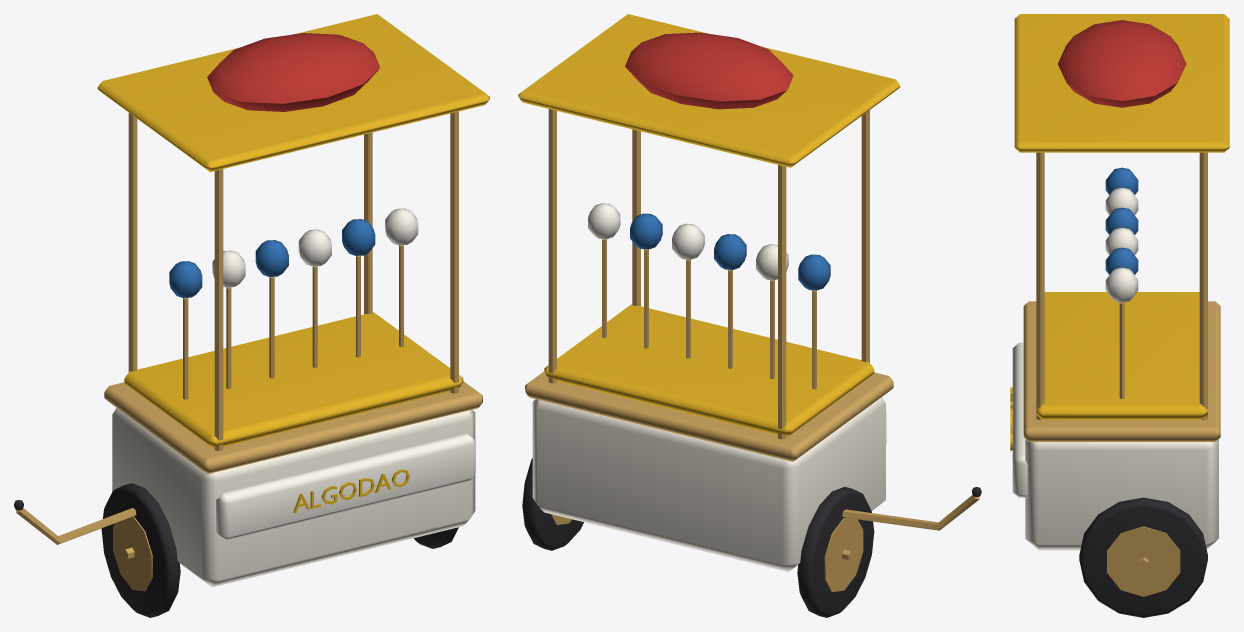
The model's file is cotton_candy_cart.glb.
3 renders of one model, left to right at view 1: azimuth 30°, elevation 25°; view 2: azimuth 150°, elevation 25°; view 3: azimuth 270°, elevation 25°, orthographic. The views are drawn at different scales.
Visible parts, largest first — view 1: cotton_candy_cart; view 2: cotton_candy_cart; view 3: cotton_candy_cart.
Boxes of the visible parts, x1,y1,x2,y2 form: cotton_candy_cart: [14, 14, 489, 617]; cotton_candy_cart: [518, 14, 981, 617]; cotton_candy_cart: [1010, 14, 1229, 617].
Bounding box in the file's own units: 2.22 × 2.62 × 1.02.
